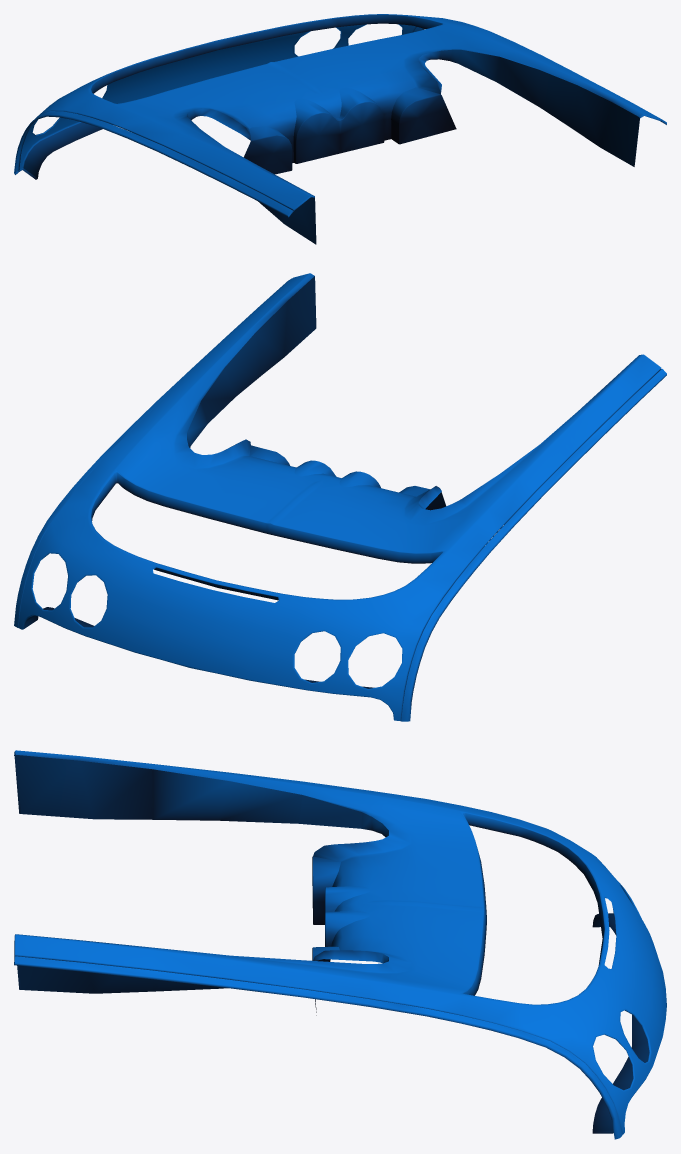
The model's file is Veyron_Roof01_Duco.fbx.
The picture shows the model from 3 angles, top to bottom: view 1: azimuth 30°, elevation 25°; view 2: azimuth 150°, elevation 25°; view 3: azimuth 270°, elevation 25°; orthographic projection. The views are drawn at different scales.
Visible parts, largest first — view 1: Veyron_Roof01_Duco; view 2: Veyron_Roof01_Duco; view 3: Veyron_Roof01_Duco.
Boxes of the visible parts, x1,y1,x2,y2 form: Veyron_Roof01_Duco: [14, 14, 666, 244]; Veyron_Roof01_Duco: [14, 273, 666, 721]; Veyron_Roof01_Duco: [14, 750, 666, 1139].
Size of the model in its own units: 132 by 52.74 by 166.
